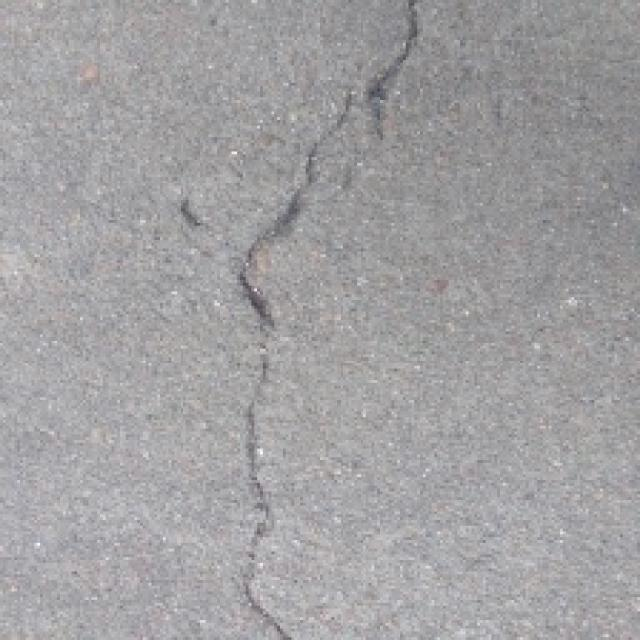crack: (202, 2, 434, 640)
